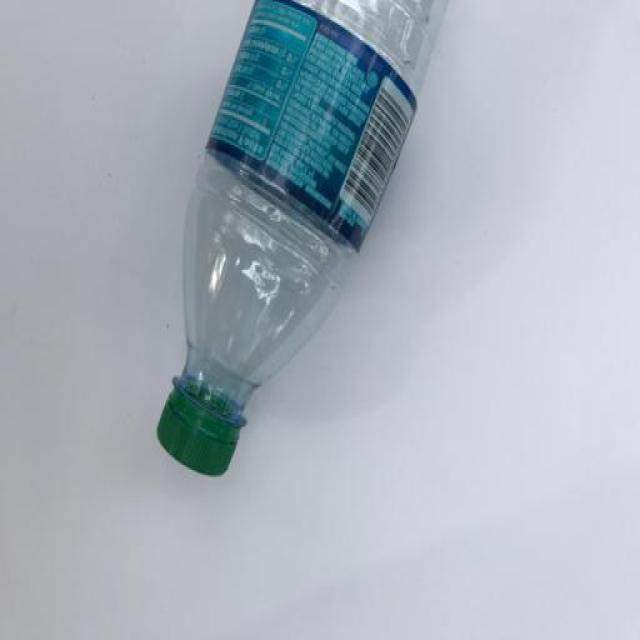Plastic: (156, 0, 450, 478)
